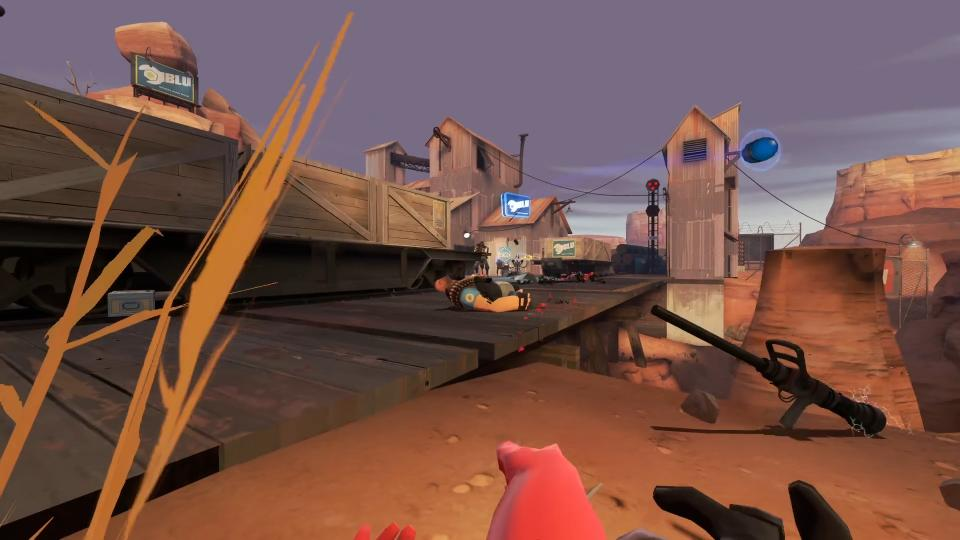Enemy: (435, 275, 531, 312), (472, 241, 491, 276), (494, 257, 503, 276)
